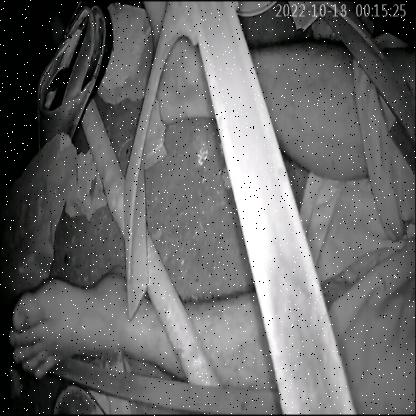leg: (1, 258, 276, 414), (140, 1, 366, 180)
